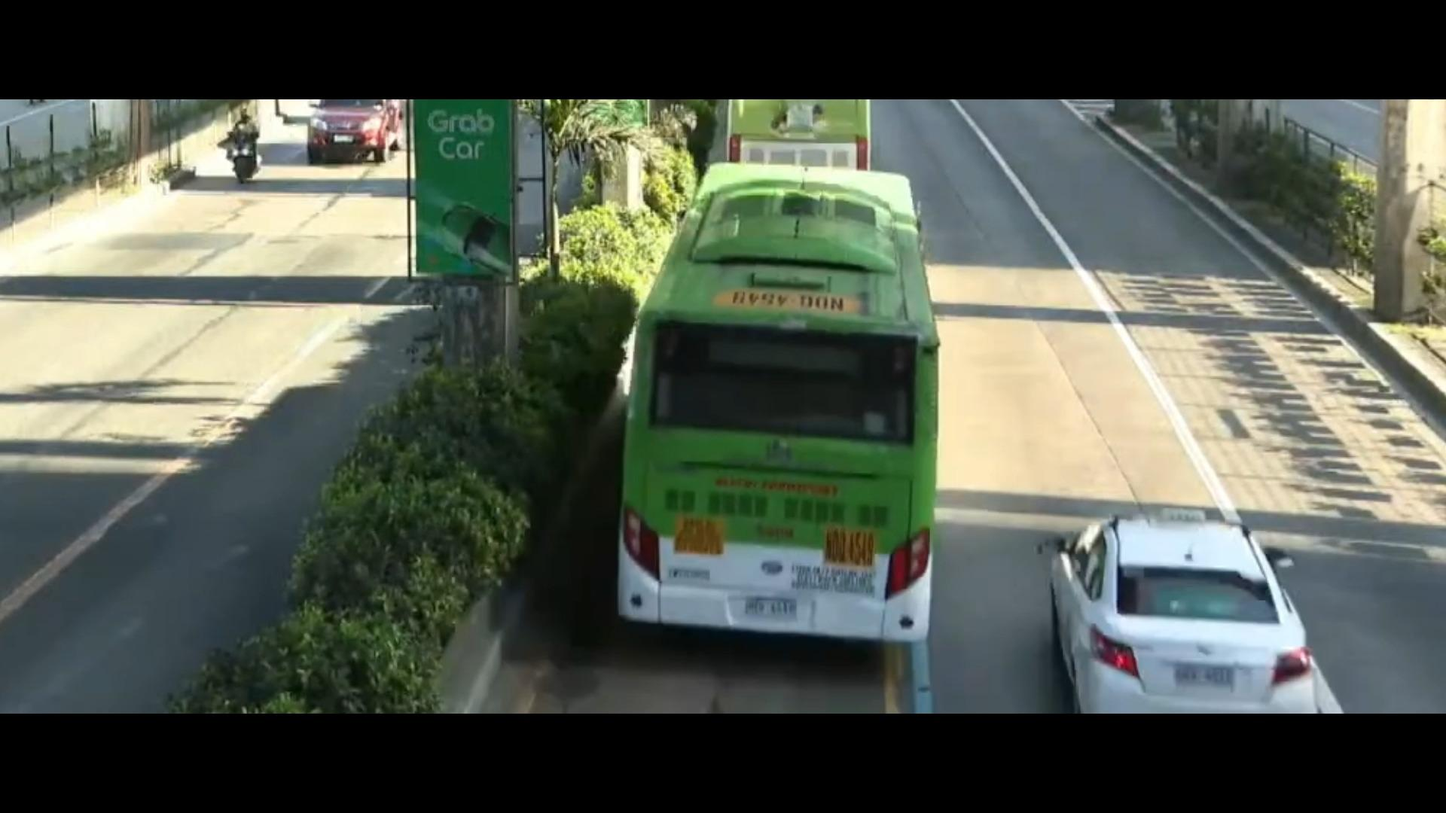Bus: (585, 142, 970, 652), (713, 94, 885, 182)
Motorcycle: (210, 110, 275, 205)
SUV: (311, 98, 408, 175)
Sedan: (1047, 469, 1337, 705)
